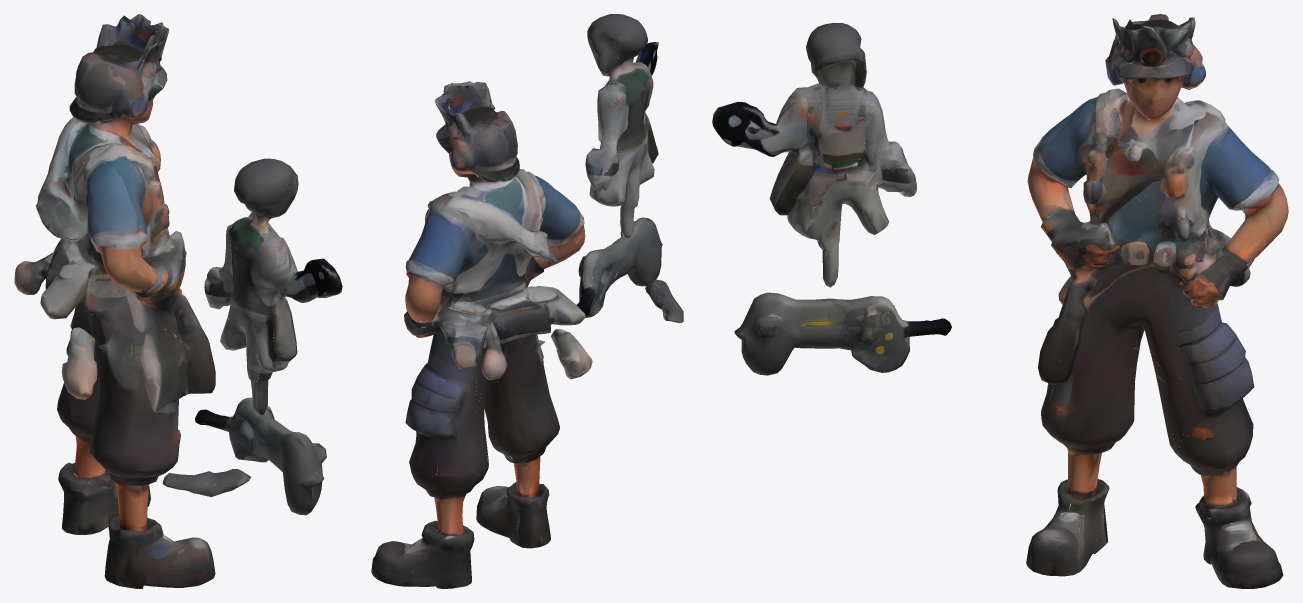
Rendered from prop_wobbly_maintenance_ladder_01.glb.
3 views of the same model, side by side, from view 1: azimuth 30°, elevation 25°; view 2: azimuth 150°, elevation 25°; view 3: azimuth 270°, elevation 25° (orthographic). The views are drawn at different scales.
Visible parts, largest first — view 1: tripo_node_11b0575e-d953-4d0c-a103-728250c36a89; view 2: tripo_node_11b0575e-d953-4d0c-a103-728250c36a89; view 3: tripo_node_11b0575e-d953-4d0c-a103-728250c36a89.
Boxes of the visible parts, left/top/right/bottom form: tripo_node_11b0575e-d953-4d0c-a103-728250c36a89: left=14, top=14, right=342, bottom=588; tripo_node_11b0575e-d953-4d0c-a103-728250c36a89: left=371, top=14, right=683, bottom=588; tripo_node_11b0575e-d953-4d0c-a103-728250c36a89: left=712, top=14, right=1288, bottom=588.
Bounding box in the file's own units: 0.3386 × 0.9976 × 0.9461.
1 material, 1 textured.
